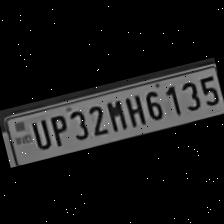1: (160, 82, 184, 119)
2: (83, 100, 109, 138)
3: (64, 104, 92, 142), (175, 76, 201, 114)
5: (194, 71, 221, 109)
6: (139, 86, 166, 124)
H: (120, 91, 146, 129)
M: (100, 95, 128, 134)
P: (44, 110, 71, 148)
U: (26, 116, 52, 152)
